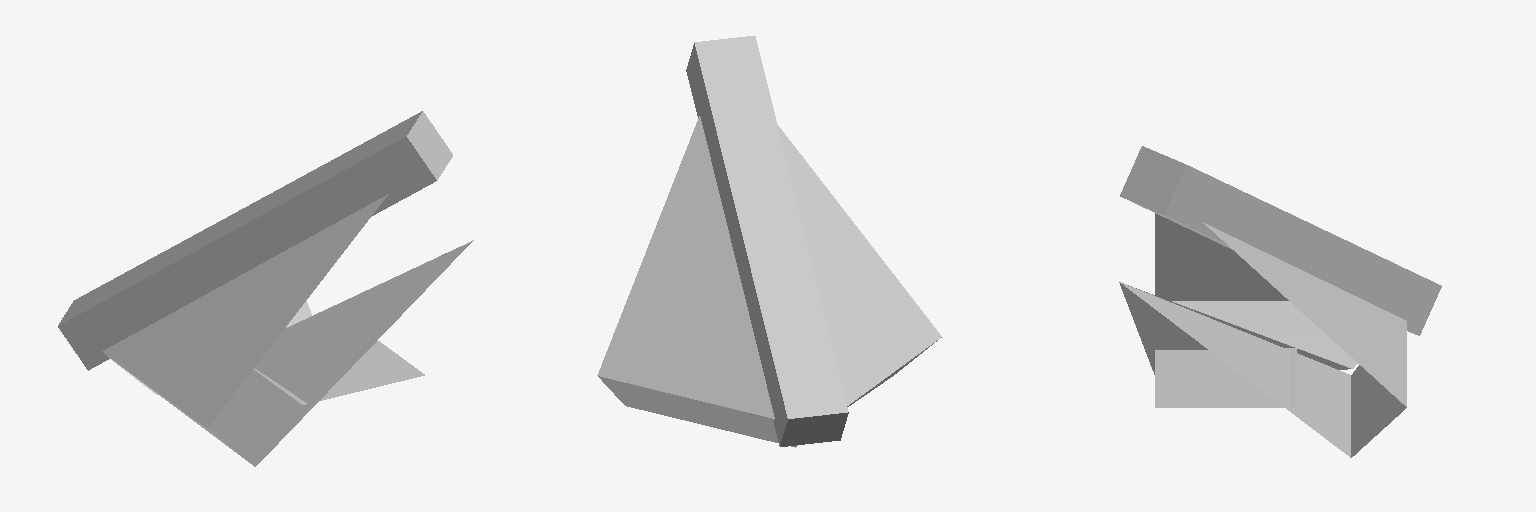
The model's file is roof_tile_gray_incline_outer.obj.
3 renders of one model, left to right at view 1: azimuth 30°, elevation 25°; view 2: azimuth 150°, elevation 25°; view 3: azimuth 270°, elevation 25°, orthographic.
Visible parts, largest first — view 1: cube.002, cube.004, cube.003; view 2: cube.004, cube.001, cube.002; view 3: cube.001, cube.004, cube.002, cube.003.
Part boxes in pixels (x1,y1,x2,y2): cube.002: (102, 194, 473, 466); cube.004: (58, 111, 452, 370); cube.003: (254, 340, 424, 404); cube.004: (686, 36, 848, 446); cube.001: (597, 116, 797, 447); cube.002: (777, 124, 941, 406); cube.001: (1120, 222, 1406, 457); cube.004: (1120, 146, 1441, 335); cube.002: (1119, 213, 1357, 374); cube.003: (1155, 348, 1296, 407).
Bounding box in the file's own units: 1.28 × 1.31 × 1.28.